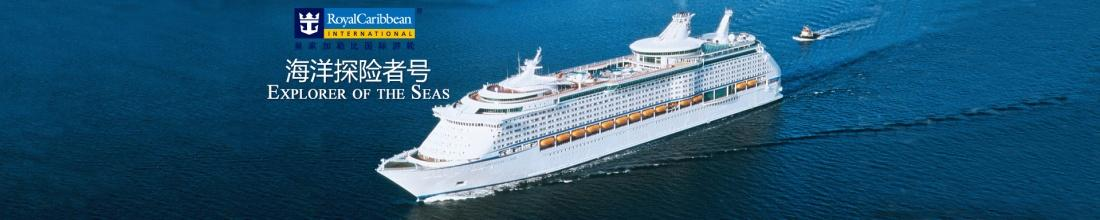otherboat: (794, 21, 825, 43)
youlun: (371, 11, 784, 202)
